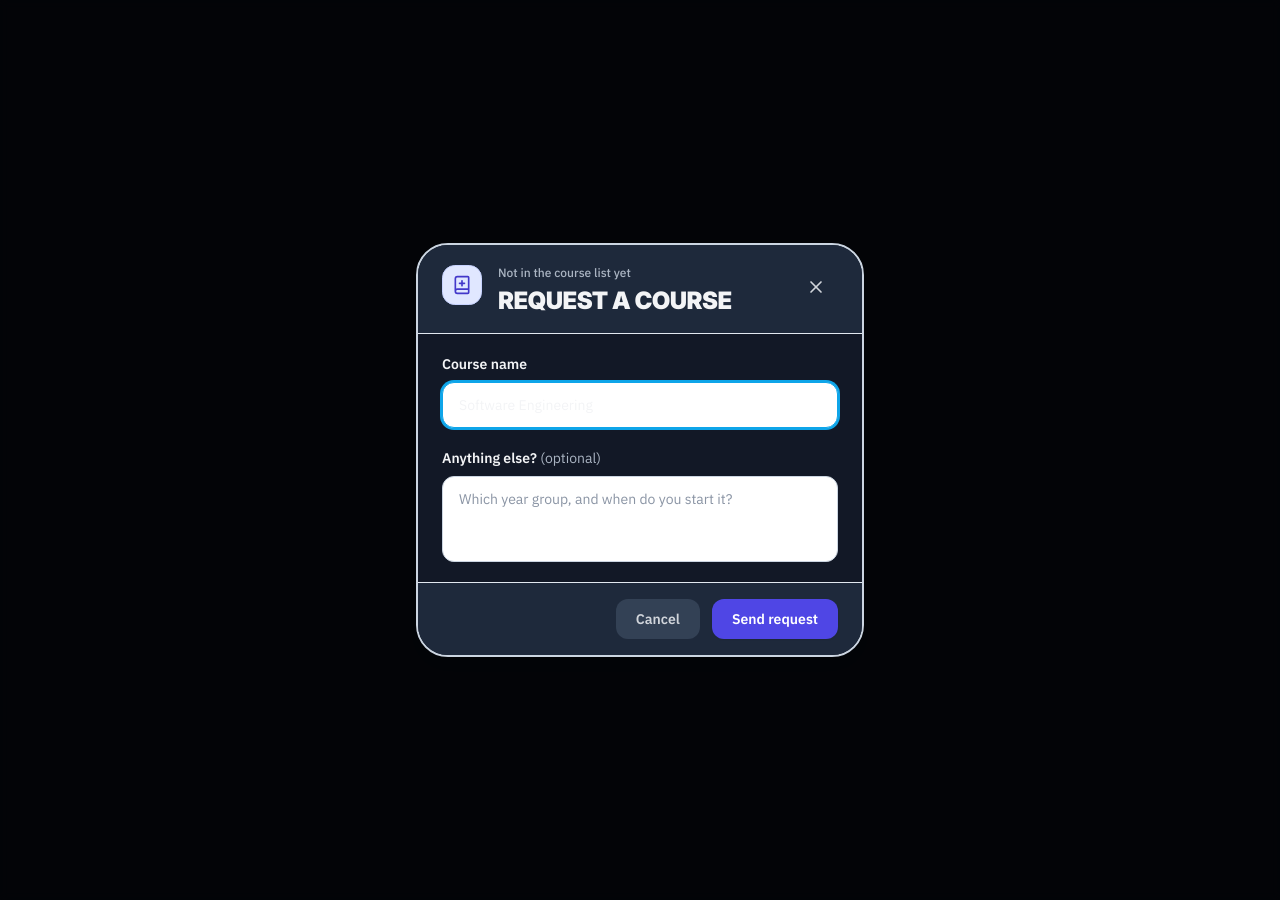
CourseRequestModal › tells the requester how many people are already waiting
The width and height of the screenshot is (1280, 900).
Click the button "Send request" at x=775, y=619, box x1=712 y1=599 x2=838 y2=639
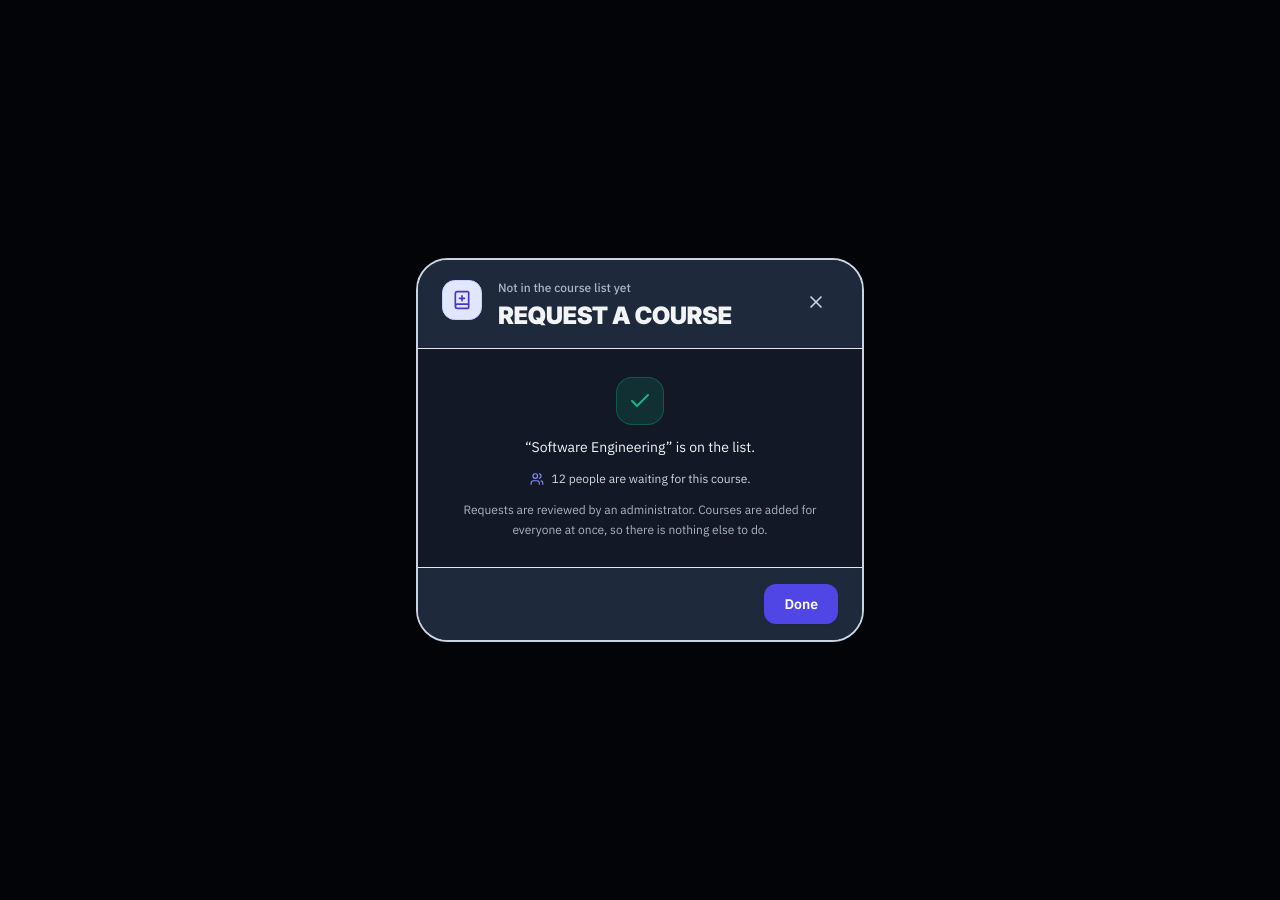
Result: the text "12 people are waiting for this course." is shown at x1=530 y1=469 x2=750 y2=488
